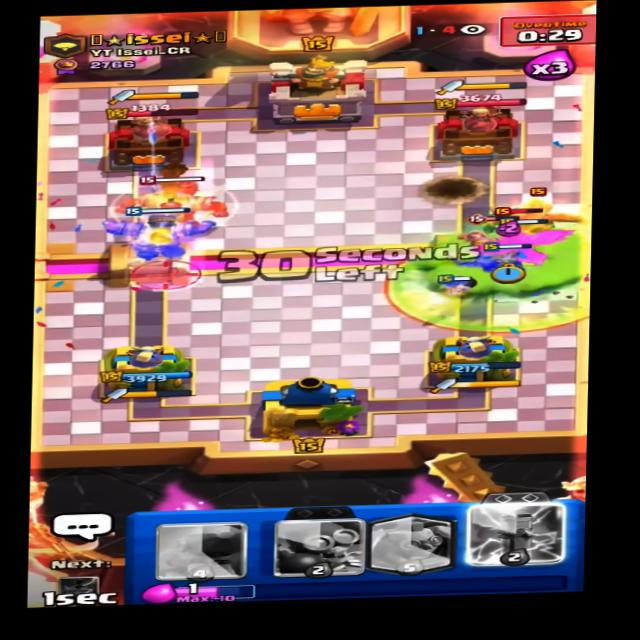goblin-curse: (371, 232, 602, 336)
goblin-machine: (119, 169, 220, 225)
phoenix: (499, 183, 593, 238)
